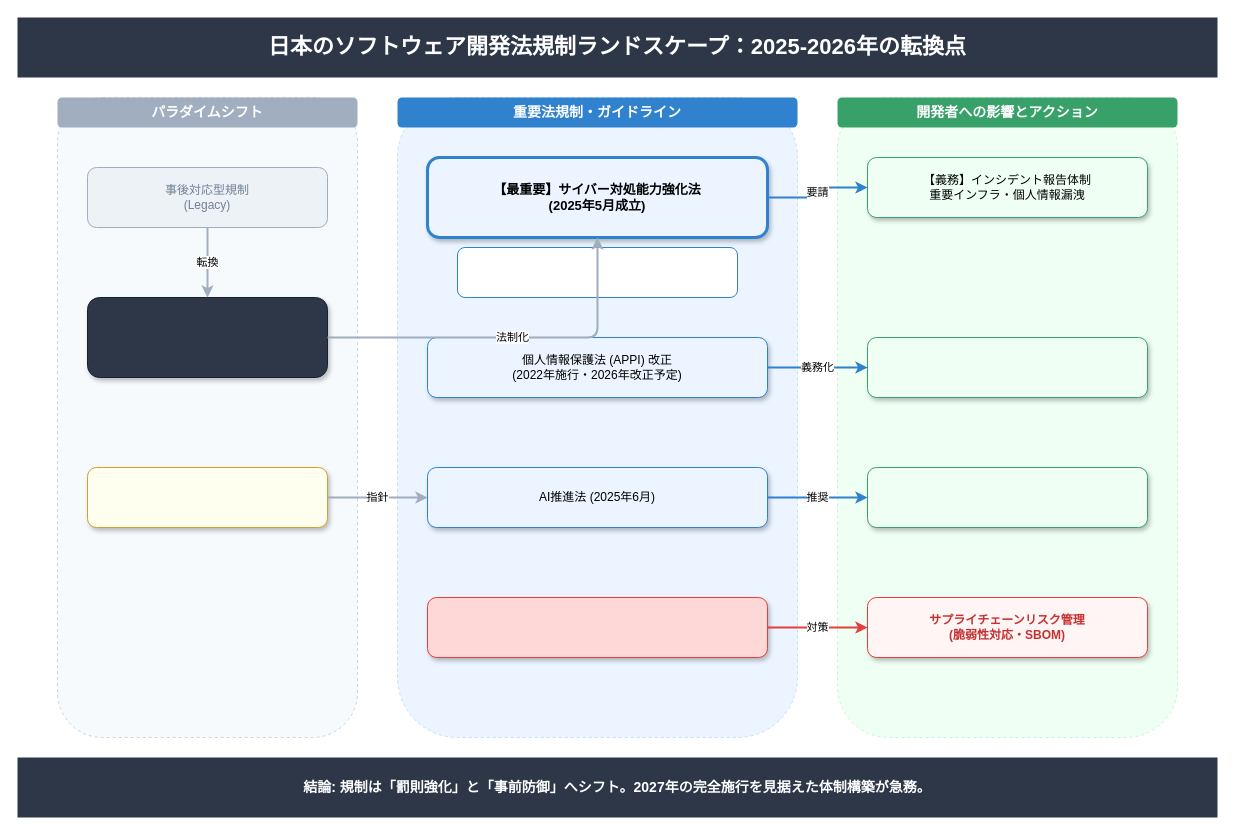
Some shapes in this 1234 by 834 pixel diagram are drawn without their labels. The centre of each missing label's shape, as x and y in pixels:
"AIガバナンスの具体化 (2025-2026)" goes at (x=208, y=498).
"AIガバナンス・倫理規定 (ソフトロー対応)" goes at (x=1008, y=498).
"不正アクセス禁止法 (フィッシング規制強化)" goes at (x=598, y=628).
"事前防御・能動的防御へ (Active Defense)" goes at (x=208, y=338).
"厳格なアクセス制御 多要素認証 (MFA) の実装" goes at (x=1008, y=368).
"官民連携強化・通信監視権限 攻撃元サーバへの侵入・無害化" goes at (x=597, y=272).
